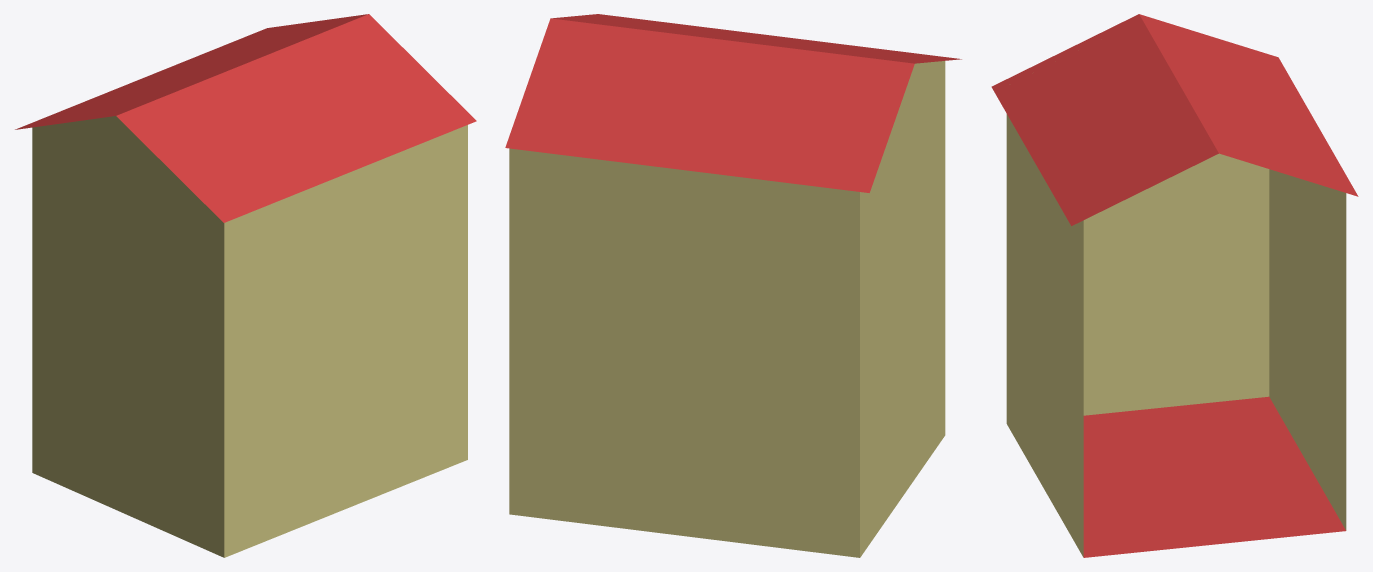
3 renders of one model, left to right at view 1: azimuth 30°, elevation 25°; view 2: azimuth 150°, elevation 25°; view 3: azimuth 270°, elevation 25°, orthographic. The views are drawn at different scales.
Bounding box in the file's own units: 7.94 × 7.29 × 8.56.
